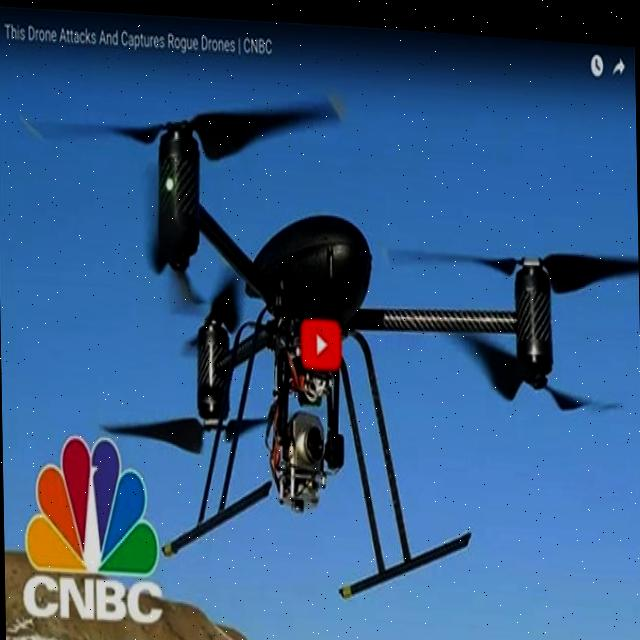drone: (92, 77, 639, 544)
